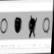correct: (13, 14, 24, 40)
not correct: (28, 12, 38, 40)
